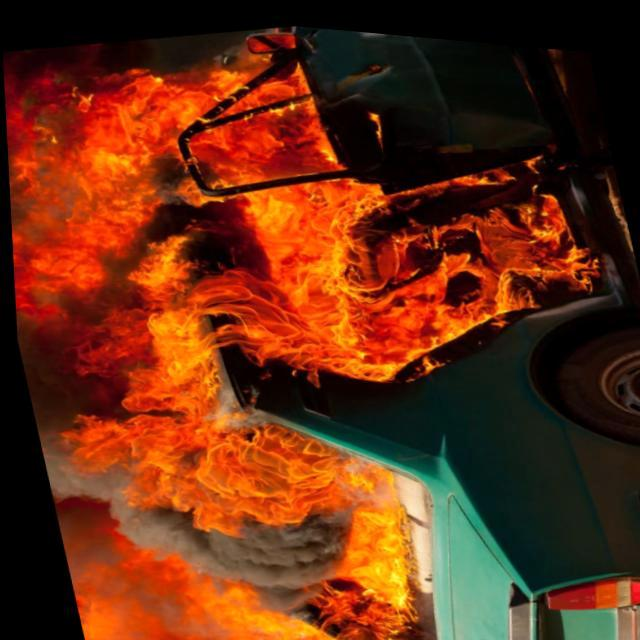fire: (16, 76, 444, 640), (359, 151, 601, 357)
